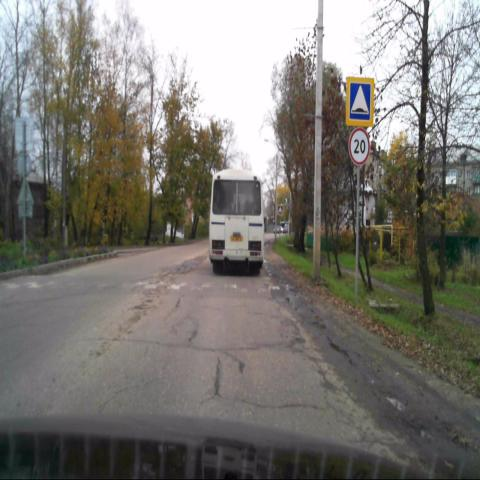3_24: (349, 129, 369, 168)
